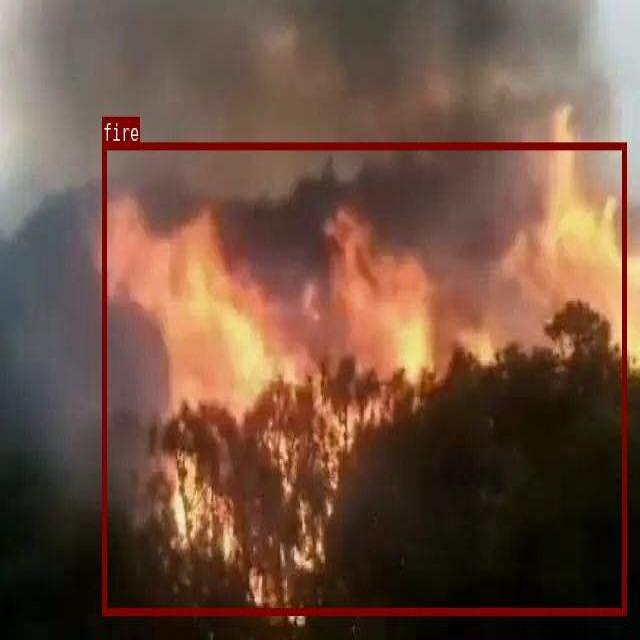fire: (102, 141, 626, 614)
